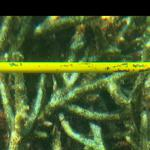dead: (6, 16, 146, 146)
